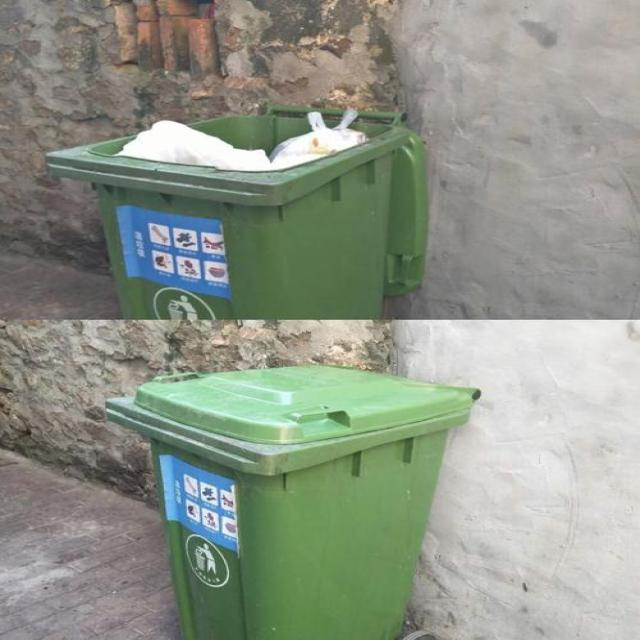garbage_bin: (105, 365, 479, 639)
overflow: (42, 103, 422, 318)
